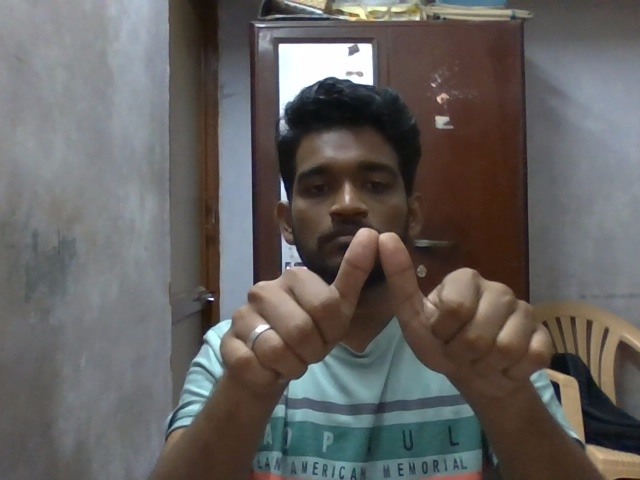A: (210, 222, 564, 422)
